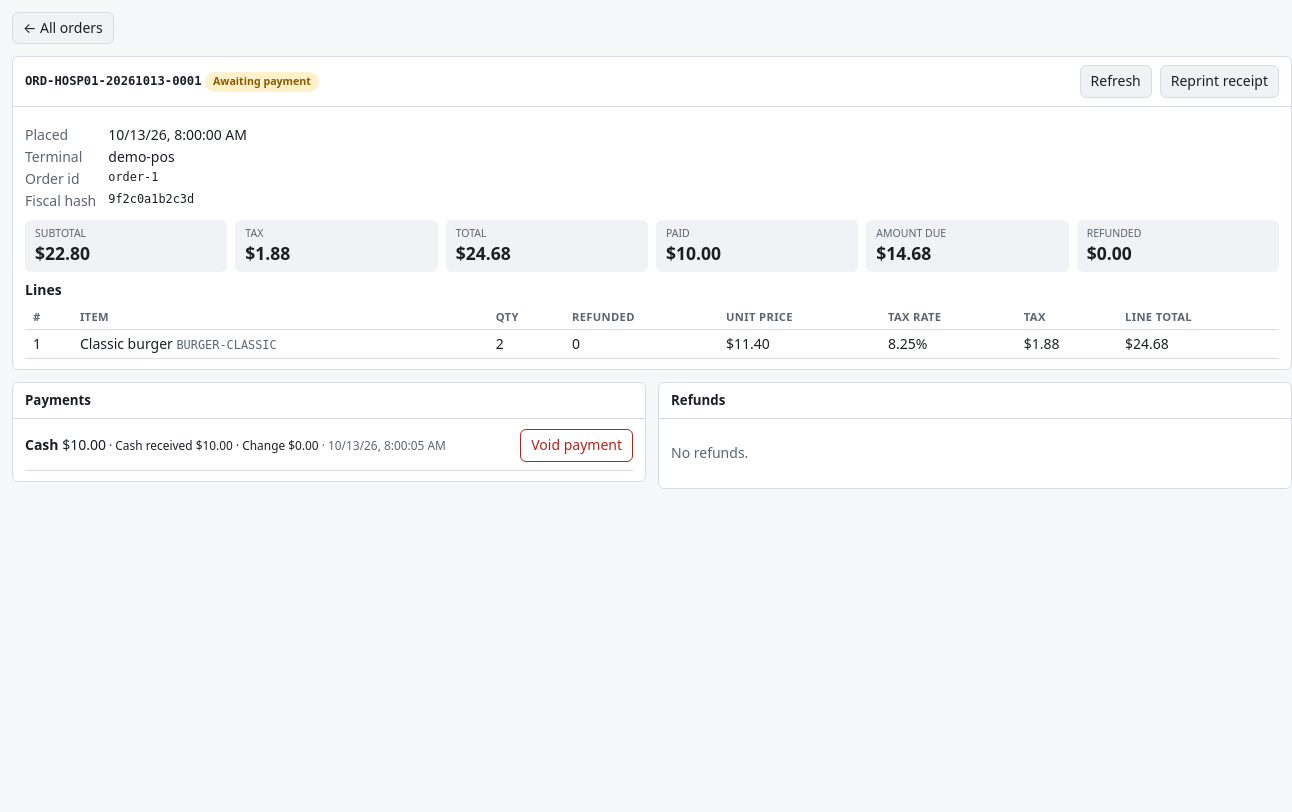
Test: OrderDetail refund › voids a payment of a PLACED order with an idempotent request
This screenshot has width=1292, height=812.
Click the button with aria-label "Void payment $10.00" at (577, 446), box [520,430,633,462]
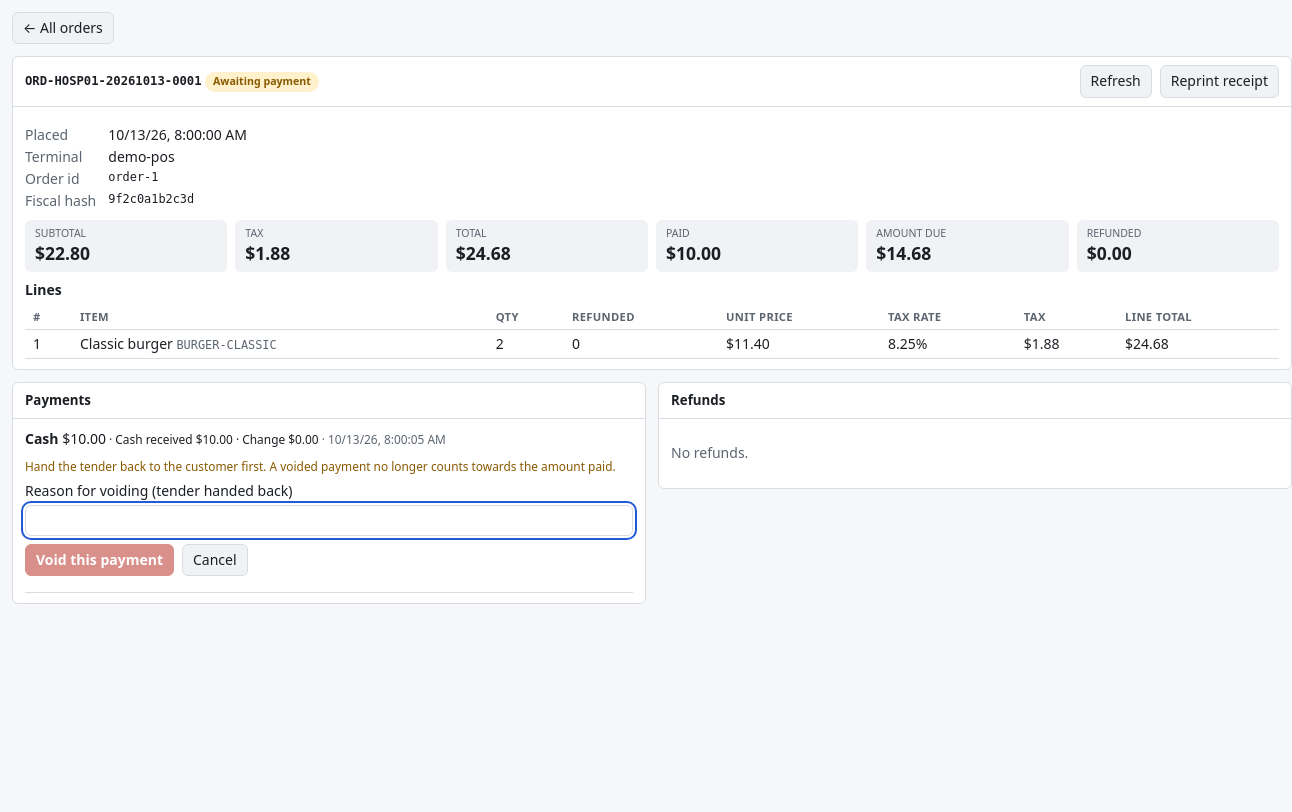
Type "Customer changed mind" into the field labelled "Reason for voiding (tender handed back)" at (329, 520), box [25,505,633,536]
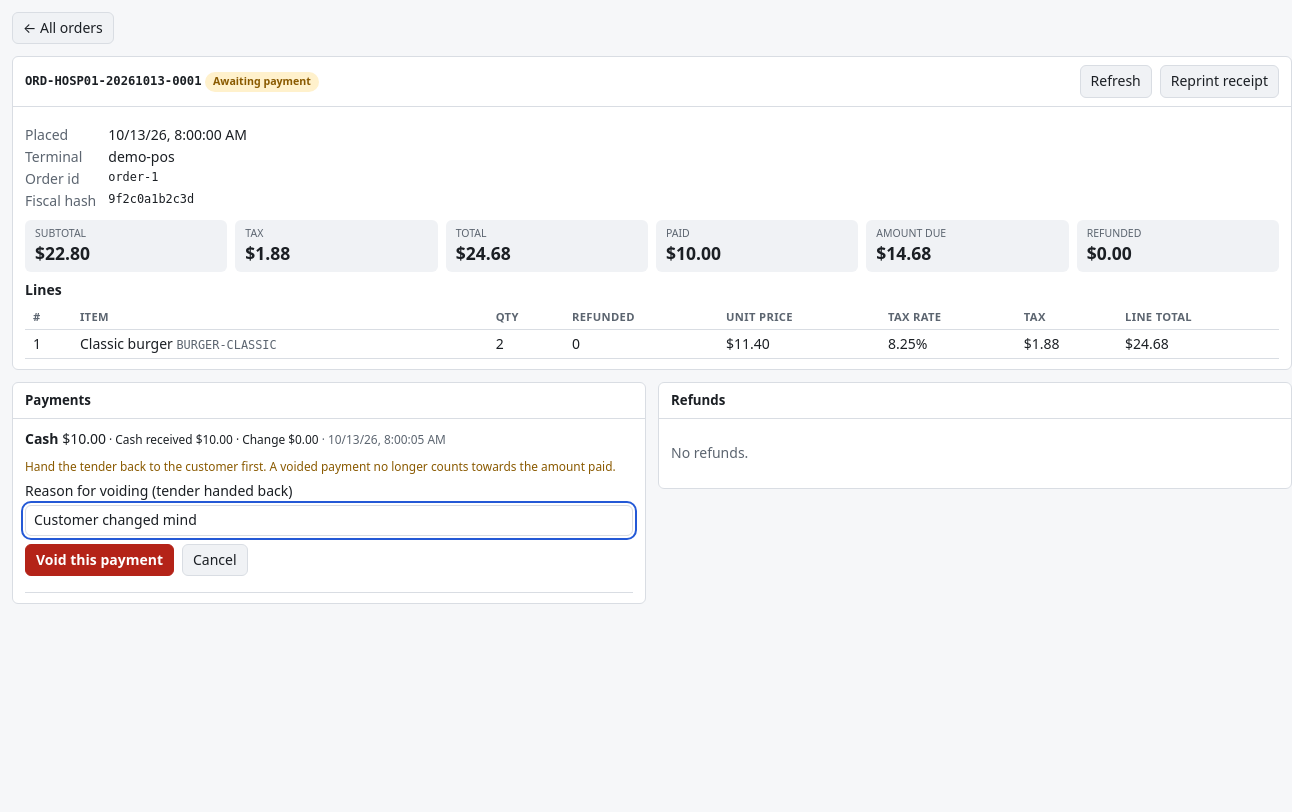
Click the button "Void this payment" at (100, 560), box [25,544,174,576]
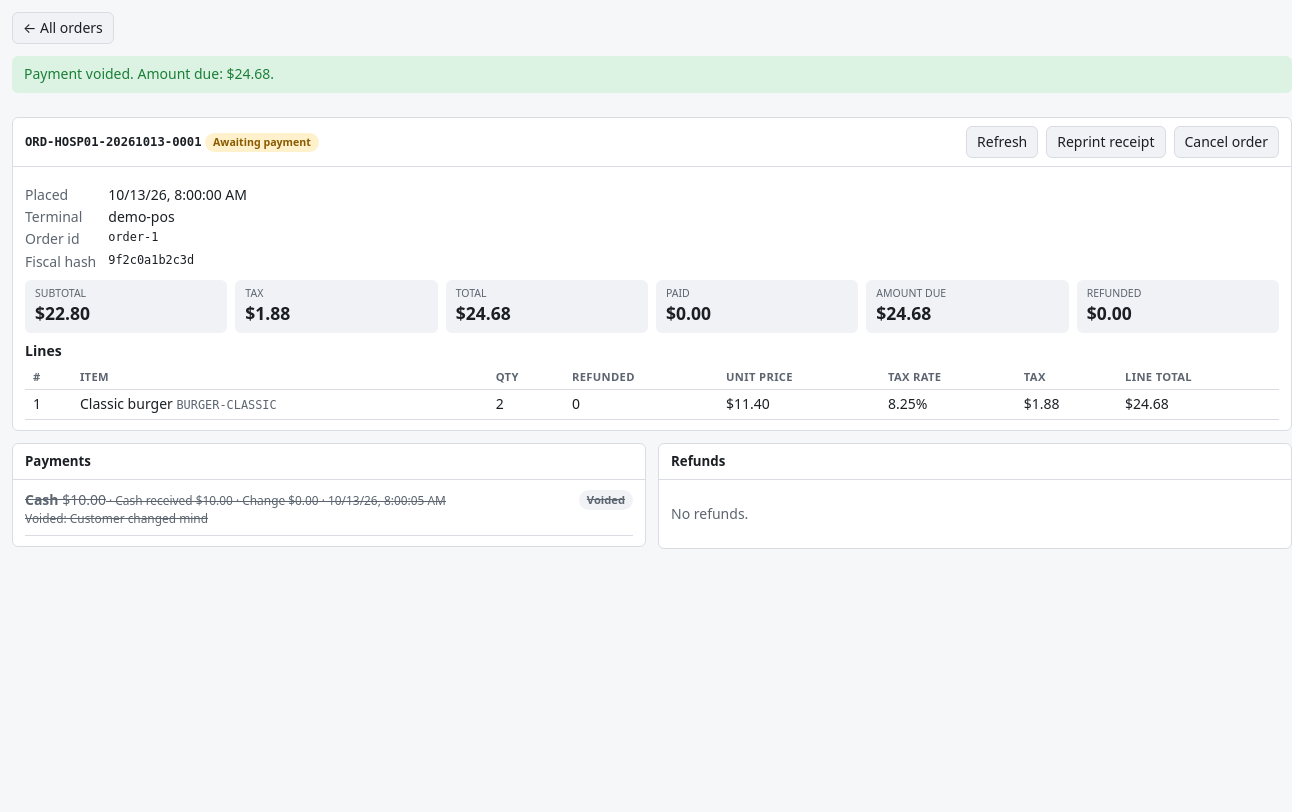
Now the button "Cancel order" is enabled, box [1174,126,1279,158]
Now the text "Voided: Customer changed mind" is shown, box [25,510,208,526]
